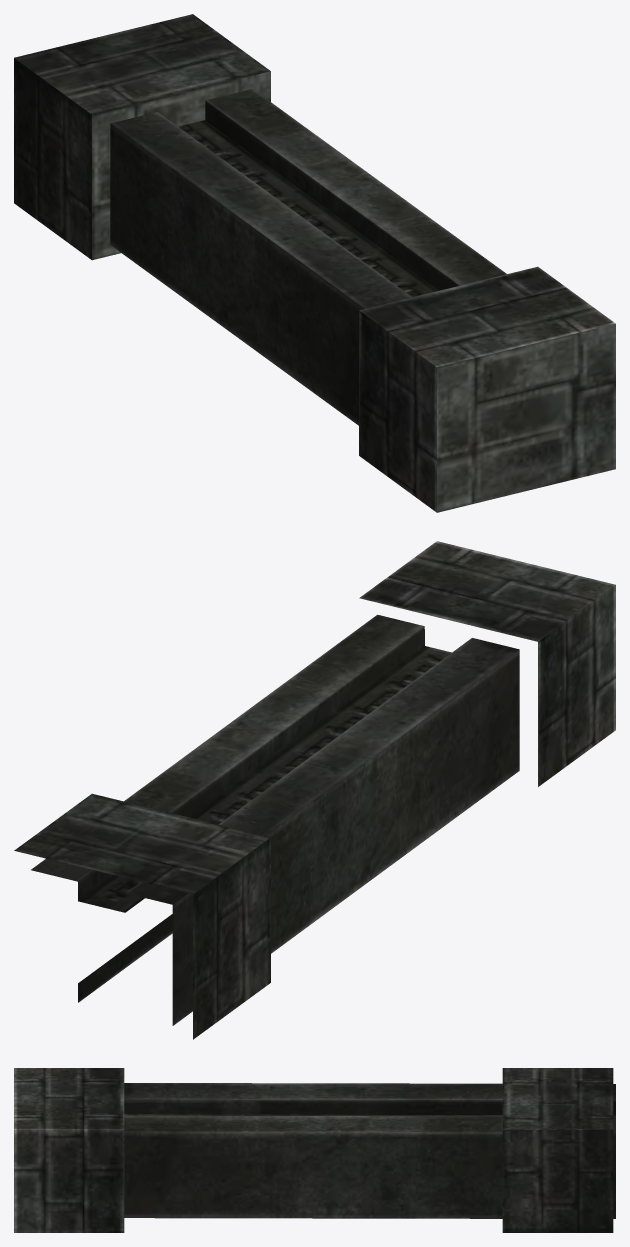
3 renders of one model, top to bottom at view 1: azimuth 30°, elevation 25°; view 2: azimuth 150°, elevation 25°; view 3: azimuth 270°, elevation 25°, orthographic. The views are drawn at different scales.
Parts seen in each view (by area): view 1: model_Object138; view 2: model_Object138; view 3: model_Object138.
Part boxes in pixels (x1,y1,x2,y2): model_Object138: [14, 14, 615, 512]; model_Object138: [14, 541, 615, 1039]; model_Object138: [14, 1068, 615, 1232].
Bounding box in the file's own units: 1.09 × 0.8484 × 4.49.
Materials: 1 (1 with a texture image).
